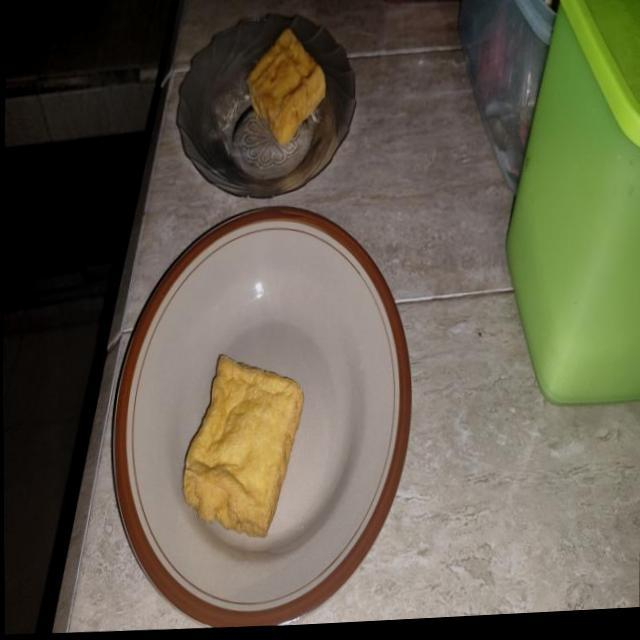tahu_goreng: (182, 354, 302, 536), (247, 28, 326, 146)
